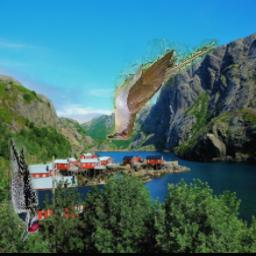Cuckoo: (106, 39, 222, 140)
Woodpecker: (8, 137, 38, 241)
